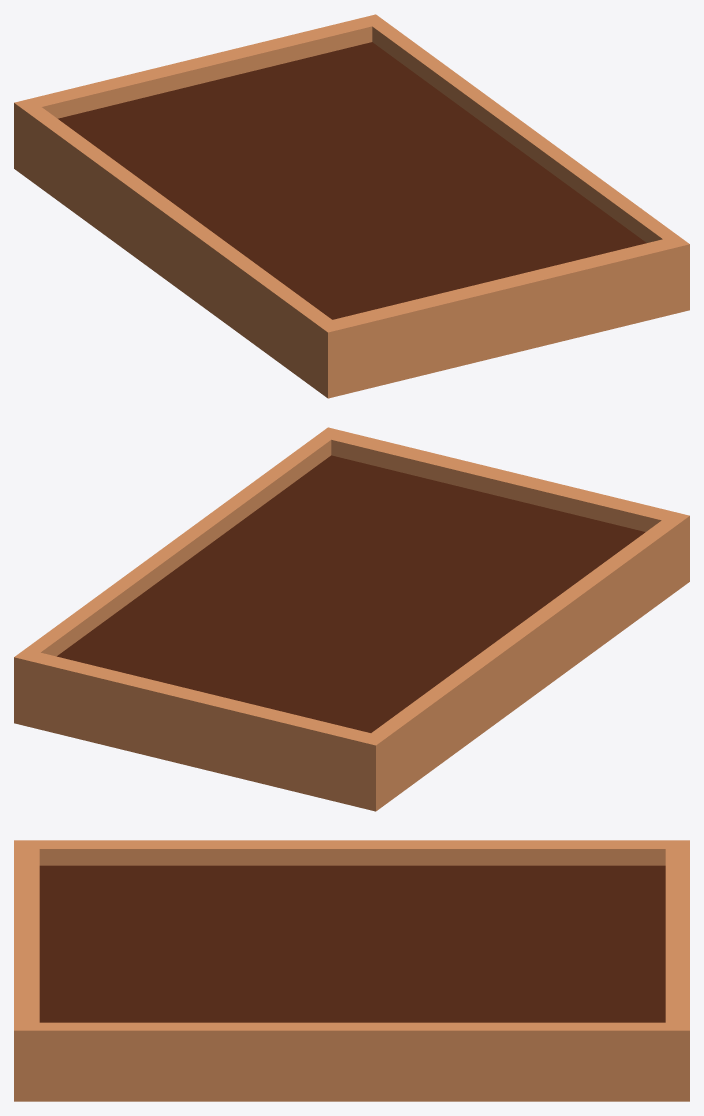
Rendered from WoodenBoxGarden.fbx.
The picture shows the model from 3 angles, top to bottom: view 1: azimuth 30°, elevation 25°; view 2: azimuth 150°, elevation 25°; view 3: azimuth 270°, elevation 25°; orthographic projection. The views are drawn at different scales.
Visible parts, largest first — view 1: Cube.010; view 2: Cube.010; view 3: Cube.010.
Part boxes in pixels (bbox=[...]): Cube.010: bbox=[14, 14, 689, 398]; Cube.010: bbox=[14, 427, 689, 811]; Cube.010: bbox=[14, 840, 689, 1101].
Size of the model in its own units: 1005 by 175 by 1510.
